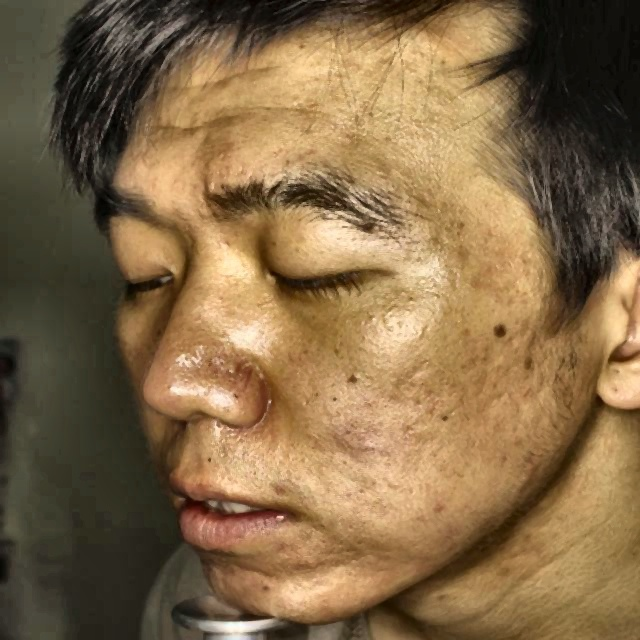comedone: (219, 354, 255, 377)
